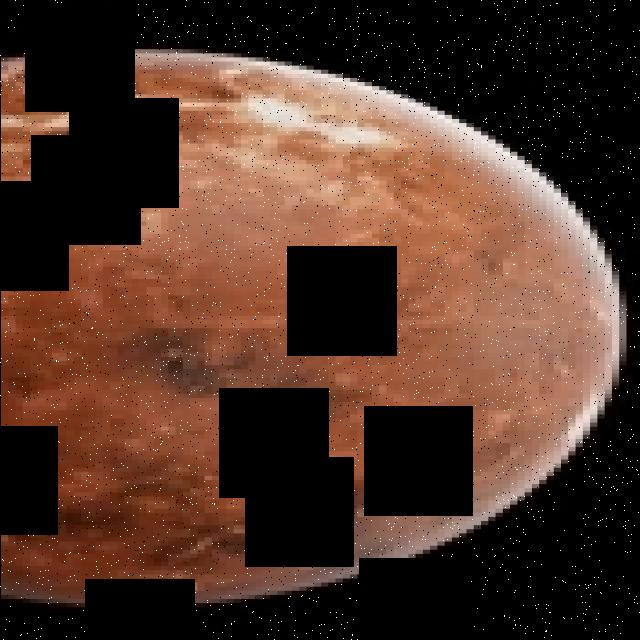Venus: (0, 49, 626, 607)
